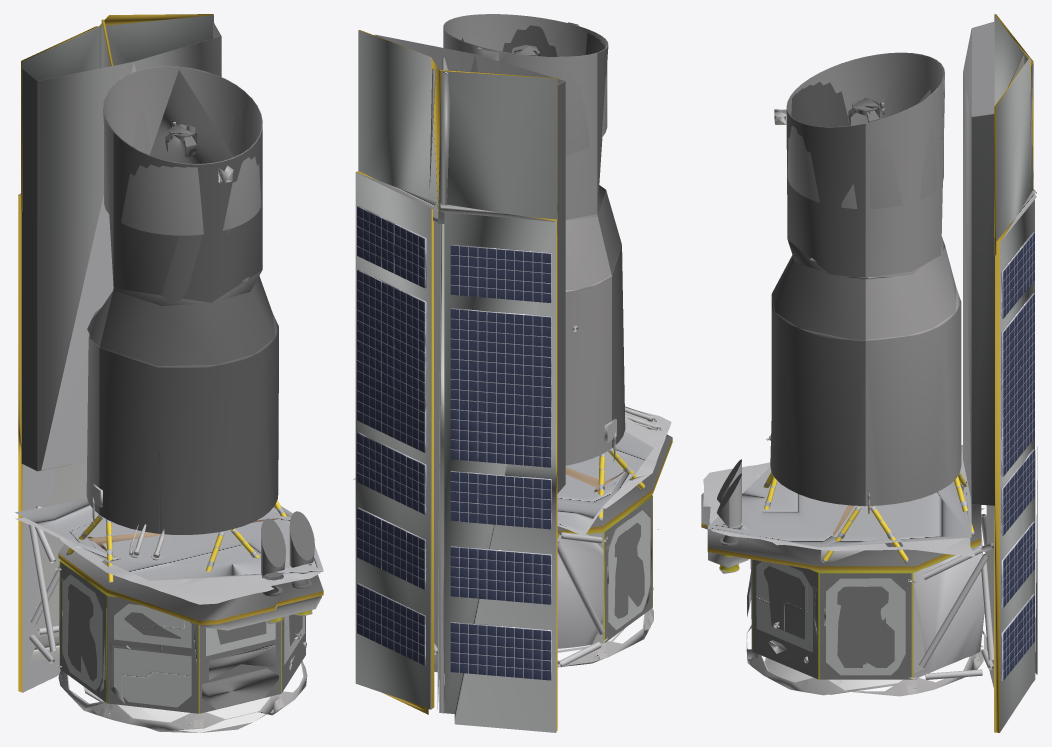
File: spitzer-low.glb
3 renders of one model, left to right at view 1: azimuth 30°, elevation 25°; view 2: azimuth 150°, elevation 25°; view 3: azimuth 270°, elevation 25°, orthographic. The views are drawn at different scales.
Parts seen in each view (by area): view 1: Fake; view 2: Fake; view 3: Fake.
Part boxes in pixels (left/top/right/bottom): Fake: left=15, top=14, right=323, bottom=732; Fake: left=353, top=14, right=672, bottom=732; Fake: left=701, top=14, right=1037, bottom=732.
Bounding box in the file's own units: 1.6 × 4.35 × 2.1.
1 material, 1 textured.
